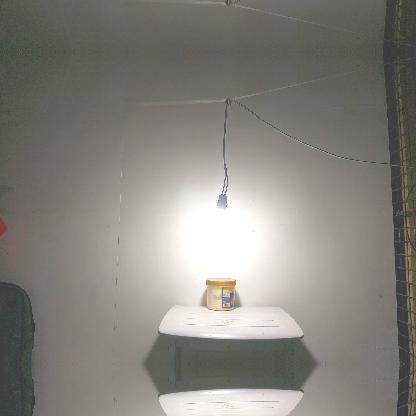Lady-s-Choice: (206, 278, 236, 310)
